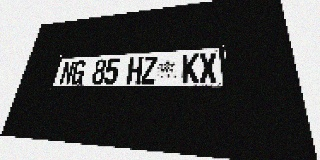5: (103, 58, 121, 84)
8: (91, 59, 108, 84)
G: (70, 60, 87, 85)
H: (126, 57, 143, 84)
K: (182, 54, 199, 83)
N: (59, 61, 76, 85)
X: (199, 53, 218, 83)
Z: (141, 56, 158, 84)
